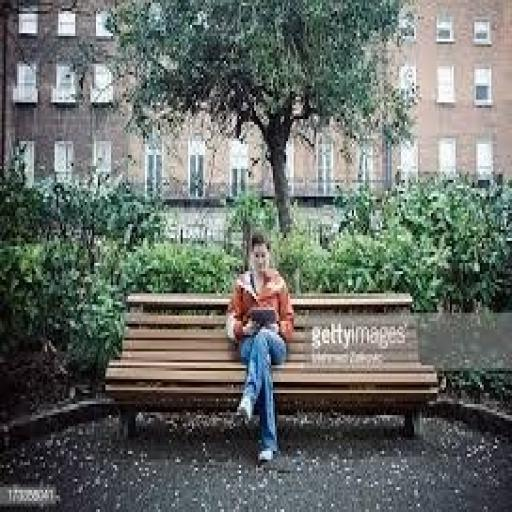sitting: (222, 227, 296, 465)
